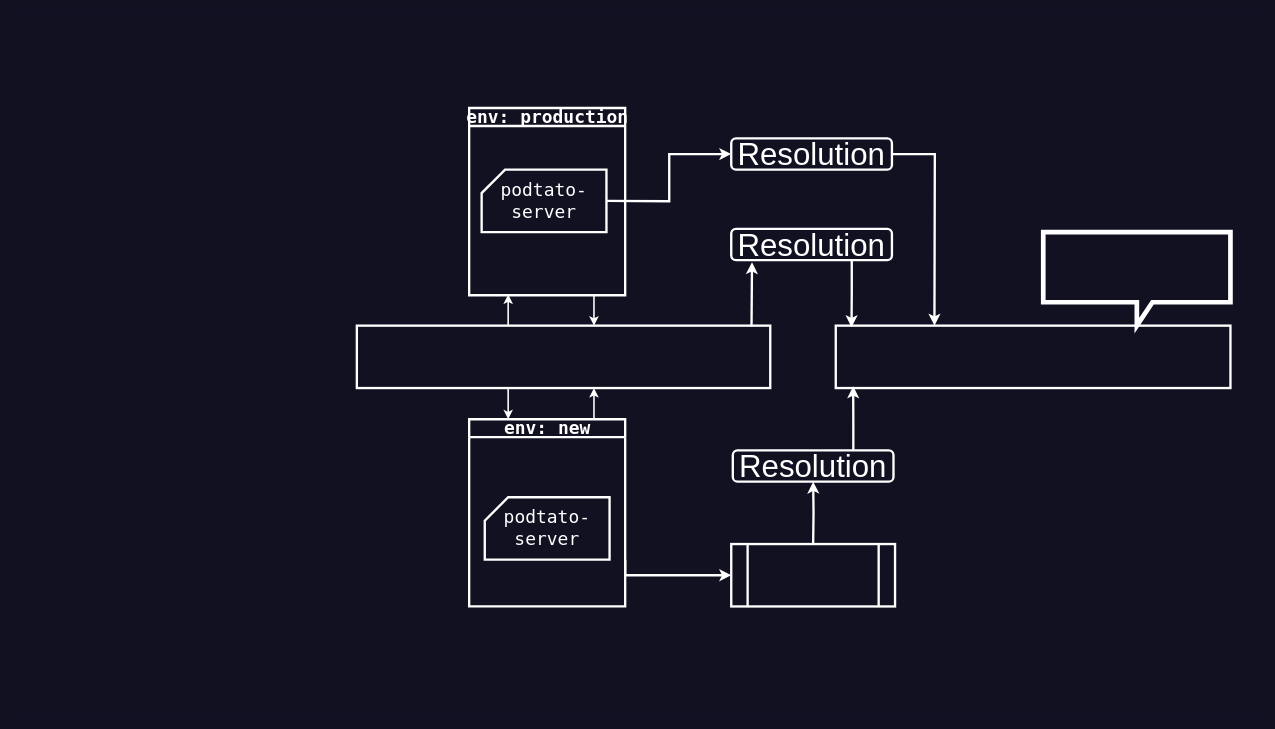
Some shapes in this 1275 by 729 pixel diagram are drawn without their labels. Here are the shapes that lost their labels. From the top down, the centre of each, then its label:
At (1136,278): "Time to Restore!".
At (563,356): "Orchestrator".
At (1032,356): "Observer".
At (813,574): "Monitor".
